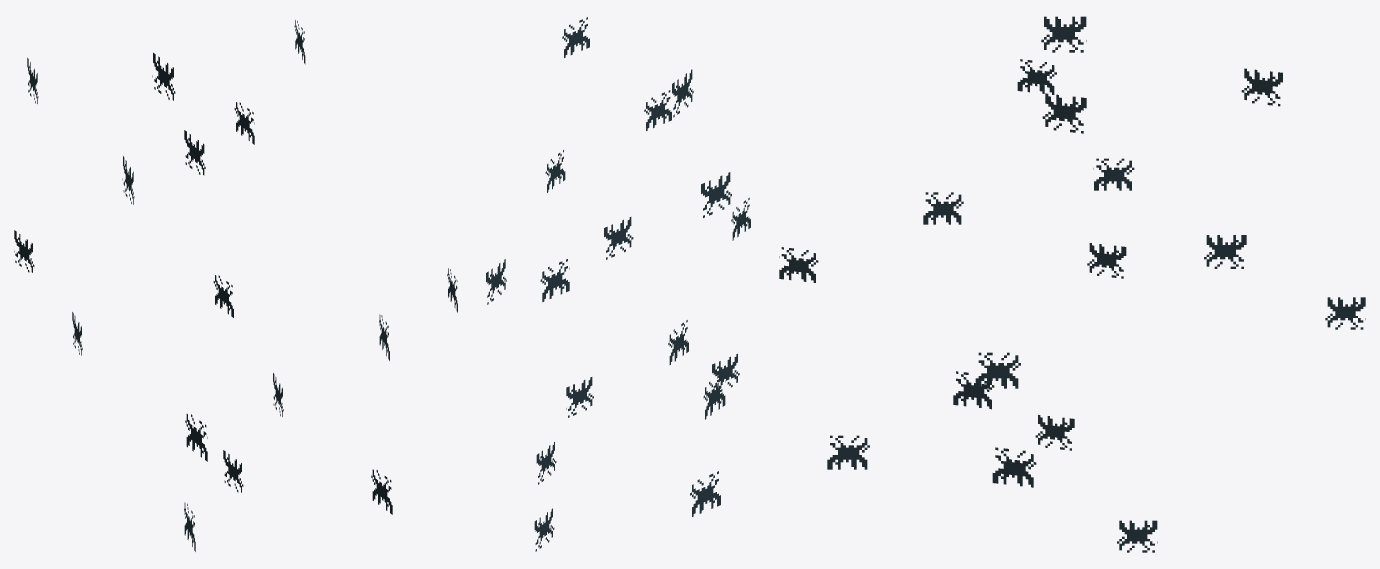
The model's file is flies01.glb.
The picture shows the model from 3 angles, left to right: view 1: azimuth 30°, elevation 25°; view 2: azimuth 150°, elevation 25°; view 3: azimuth 270°, elevation 25°; orthographic projection. The views are drawn at different scales.
Bounding box in the file's own units: 0.2746 × 0.5255 × 0.5536.
Materials: 1 (1 with a texture image).
